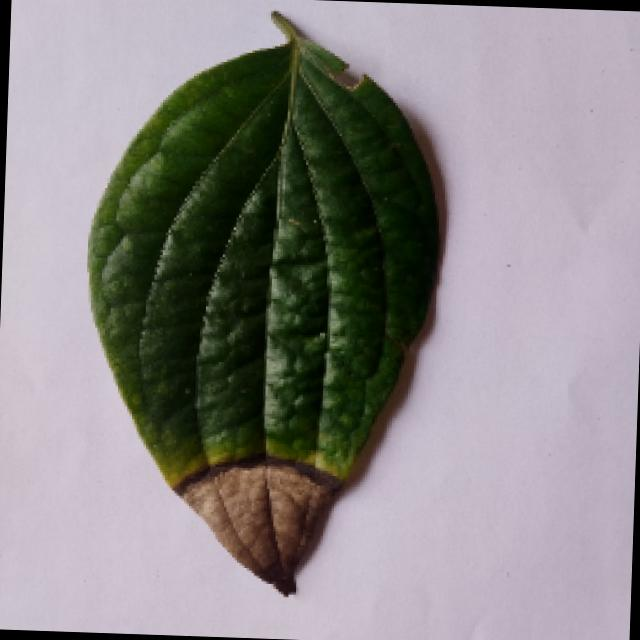footrot: (56, 17, 463, 600)
